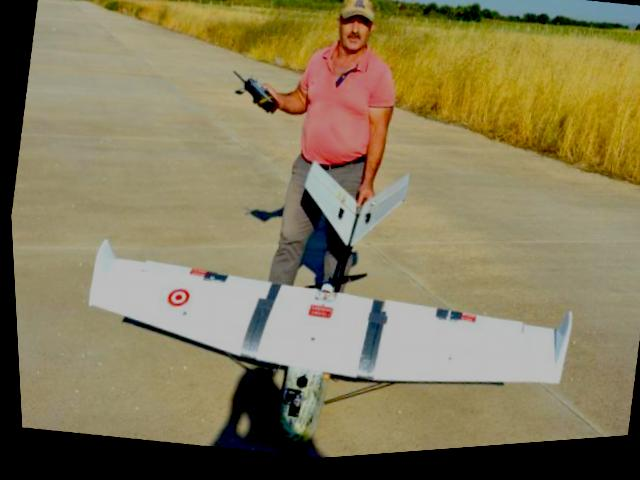iha: (54, 111, 594, 477)
